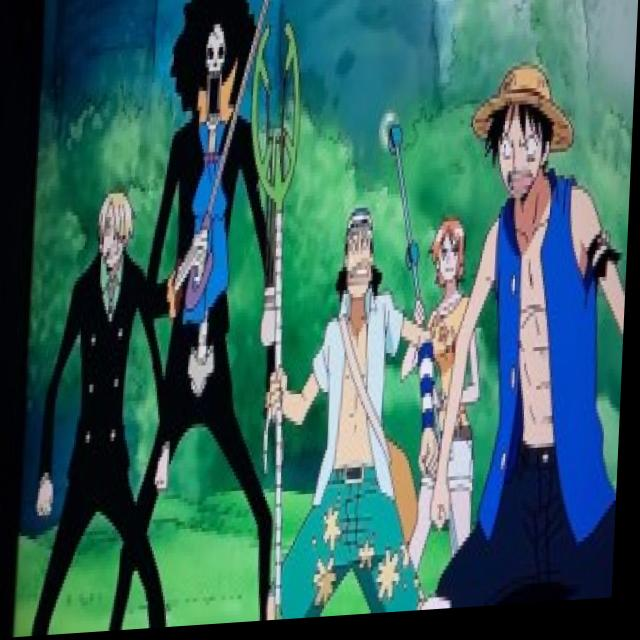Blook: (166, 0, 259, 168)
Luffy: (475, 51, 586, 208)
Nami: (428, 213, 477, 317)
Sangdi: (96, 191, 138, 284)
Usopp: (336, 207, 391, 323)
